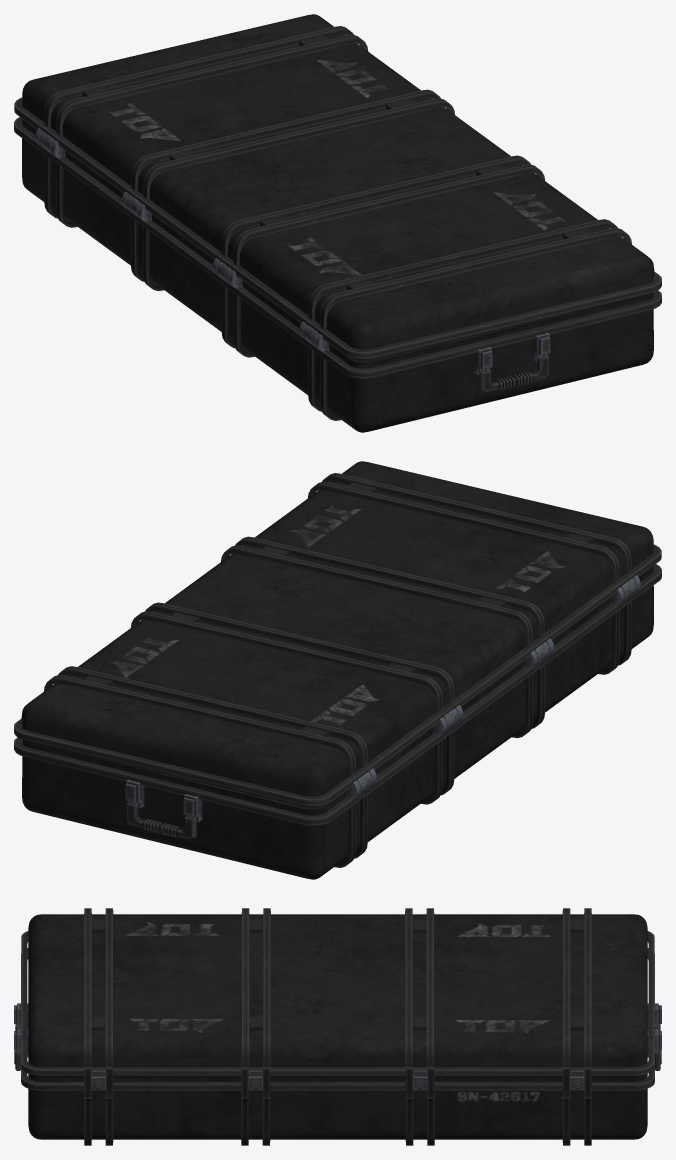
File: case_weapon.glb
The picture shows the model from 3 angles, top to bottom: view 1: azimuth 30°, elevation 25°; view 2: azimuth 150°, elevation 25°; view 3: azimuth 270°, elevation 25°; orthographic projection. The views are drawn at different scales.
Parts seen in each view (by area): view 1: lid, body; view 2: lid, body; view 3: lid, body.
Part boxes in pixels (x1,y1,x2,y2): lid: [14, 14, 661, 360]; body: [14, 117, 661, 432]; lid: [14, 461, 661, 807]; body: [14, 564, 661, 879]; lid: [21, 908, 654, 1076]; body: [14, 948, 661, 1145].
Size of the model in its own units: 0.6567 by 0.2419 by 1.26.
1 material, 1 textured.
